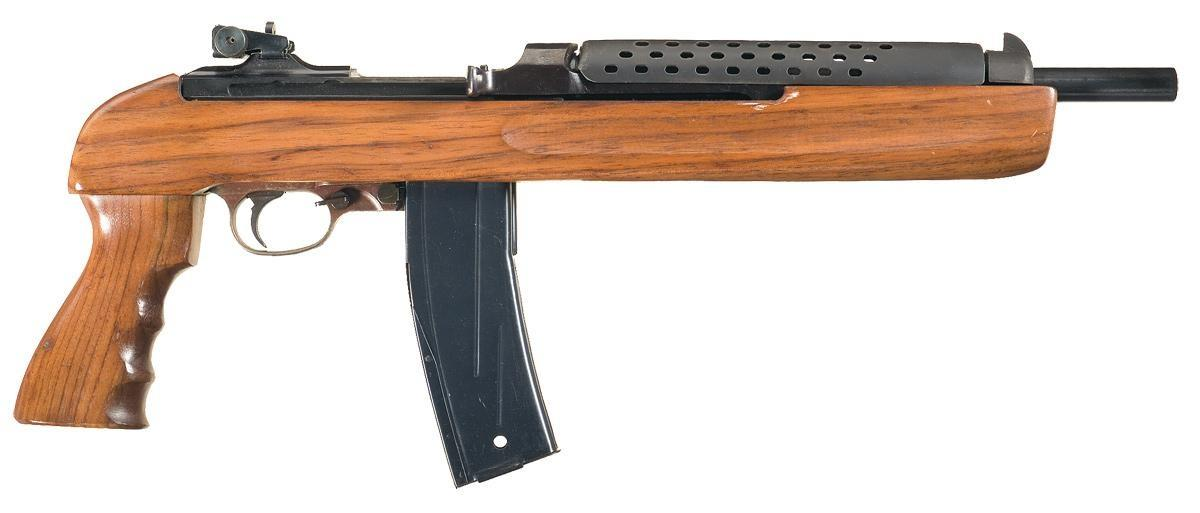blood: (13, 1, 1200, 494)
